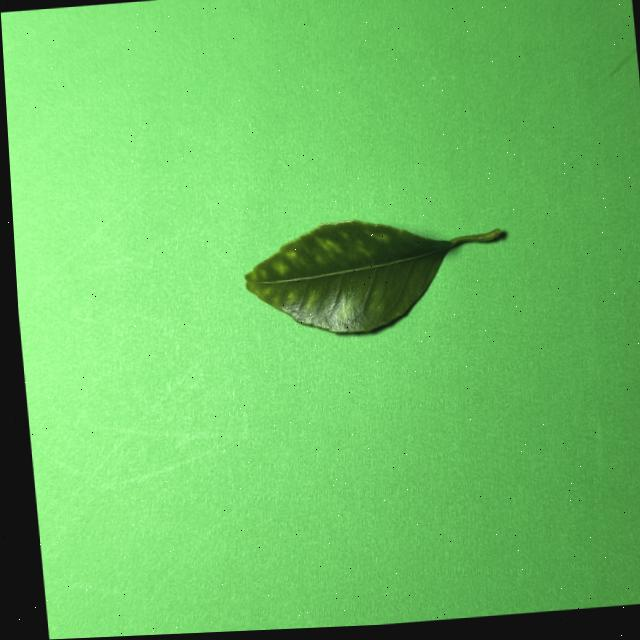greening: (245, 219, 499, 331)
